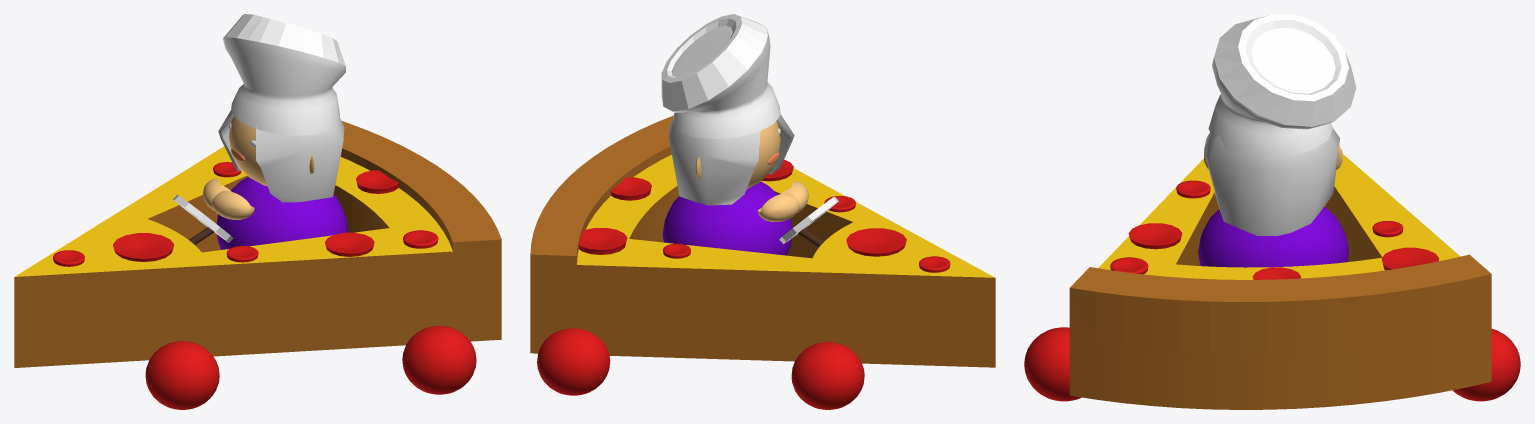
The model's file is Kart + Player.fbx.
3 renders of one model, left to right at view 1: azimuth 30°, elevation 25°; view 2: azimuth 150°, elevation 25°; view 3: azimuth 270°, elevation 25°, orthographic. The views are drawn at different scales.
Visible parts, largest first — view 1: Cylinder001, Kart plus Player, Cylinder007, Line005, Sphere009, Sphere001, Sphere003, Cylinder009, Sphere008, Cylinder014, Sphere010, Cylinder016 (+4 smaller); view 2: Cylinder001, Kart plus Player, Cylinder007, Line005, Sphere009, Sphere004, Sphere002, Cylinder009, Cylinder012, Sphere008, Sphere016, Cylinder016 (+2 smaller); view 3: Cylinder001, Cylinder007, Kart plus Player, Line005, Sphere009, Sphere001, Sphere002, Cylinder014, Cylinder012, Cylinder011, Cylinder013, Cylinder016.
Boxes of the visible parts, x1,y1,x2,y2 form: Cylinder001: (14, 121, 501, 367); Kart plus Player: (15, 146, 452, 276); Cylinder007: (223, 14, 345, 135); Line005: (218, 110, 344, 202); Sphere009: (216, 177, 348, 249); Sphere001: (402, 326, 476, 394); Sphere003: (145, 341, 219, 409); Cylinder009: (113, 233, 174, 261); Sphere008: (229, 116, 267, 186); Cylinder014: (325, 232, 374, 256); Sphere010: (212, 191, 254, 219); Cylinder016: (356, 170, 399, 193); Cylinder001: (530, 115, 995, 367); Kart plus Player: (577, 154, 994, 277); Cylinder007: (661, 14, 780, 138); Line005: (668, 113, 794, 205); Sphere009: (662, 181, 792, 255); Sphere004: (791, 342, 864, 409); Sphere002: (537, 328, 610, 395); Cylinder009: (846, 228, 906, 256); Cylinder012: (578, 228, 627, 254); Sphere008: (747, 121, 780, 188); Sphere016: (758, 193, 799, 221); Cylinder016: (610, 177, 651, 200); Cylinder001: (1069, 186, 1491, 409); Cylinder007: (1208, 14, 1356, 157); Kart plus Player: (1098, 154, 1460, 279); Line005: (1204, 128, 1339, 235); Sphere009: (1198, 206, 1348, 267); Sphere001: (1024, 327, 1081, 401); Sphere002: (1453, 328, 1520, 401); Cylinder014: (1128, 223, 1182, 249); Cylinder012: (1381, 247, 1439, 270); Cylinder011: (1176, 180, 1210, 198); Cylinder013: (1110, 257, 1148, 274); Cylinder016: (1252, 267, 1300, 279).
Size of the model in its own units: 459 by 332 by 434.
